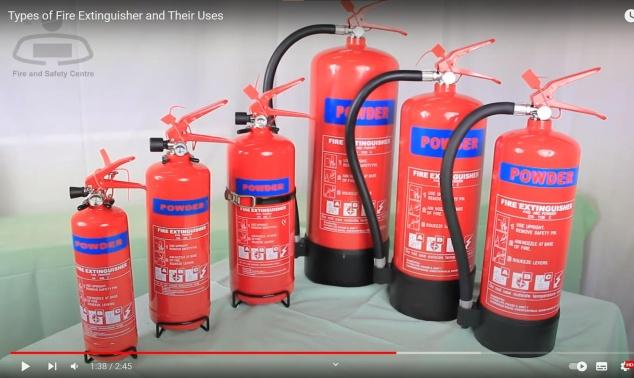APAR: (475, 66, 606, 355), (390, 37, 488, 320), (304, 2, 399, 286), (141, 98, 234, 333), (224, 78, 296, 308), (71, 154, 148, 358)
